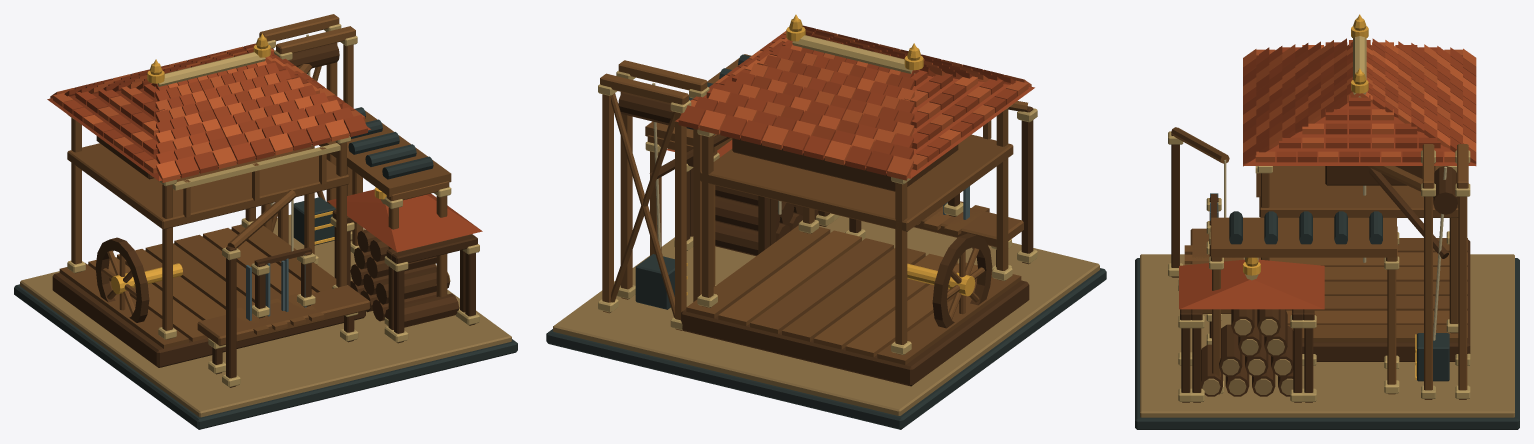
The picture shows the model from 3 angles, left to right: view 1: azimuth 30°, elevation 25°; view 2: azimuth 150°, elevation 25°; view 3: azimuth 270°, elevation 25°; orthographic projection. The views are drawn at different scales.
Visible parts, largest first — view 1: lumber_12_structure, lumber_12_metal; view 2: lumber_12_structure, lumber_12_metal; view 3: lumber_12_structure, lumber_12_metal.
Part boxes in pixels (<box>): lumber_12_structure: <box>14,14,517,429</box>; lumber_12_metal: <box>111,33,386,294</box>; lumber_12_structure: <box>546,19,1106,429</box>; lumber_12_metal: <box>686,14,975,296</box>; lumber_12_structure: <box>1135,18,1519,429</box>; lumber_12_metal: <box>1243,14,1416,379</box>.
Bounding box in the file's own units: 5.6 × 4.62 × 5.6.
